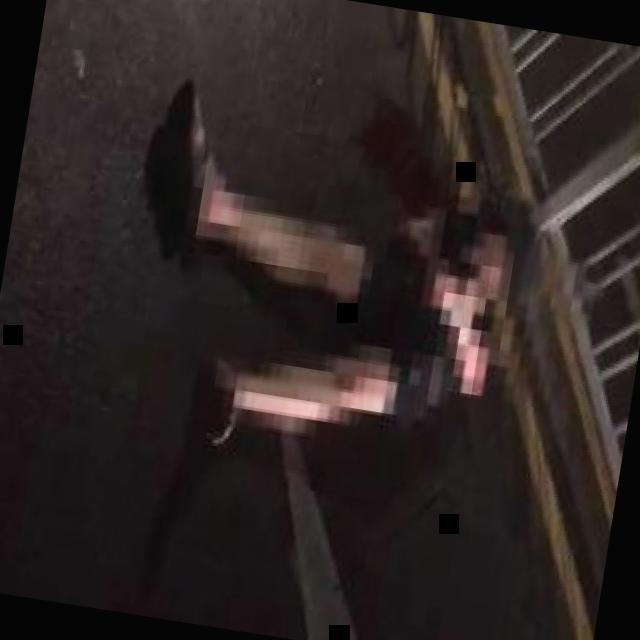Fall-Detected: (105, 49, 564, 506)
